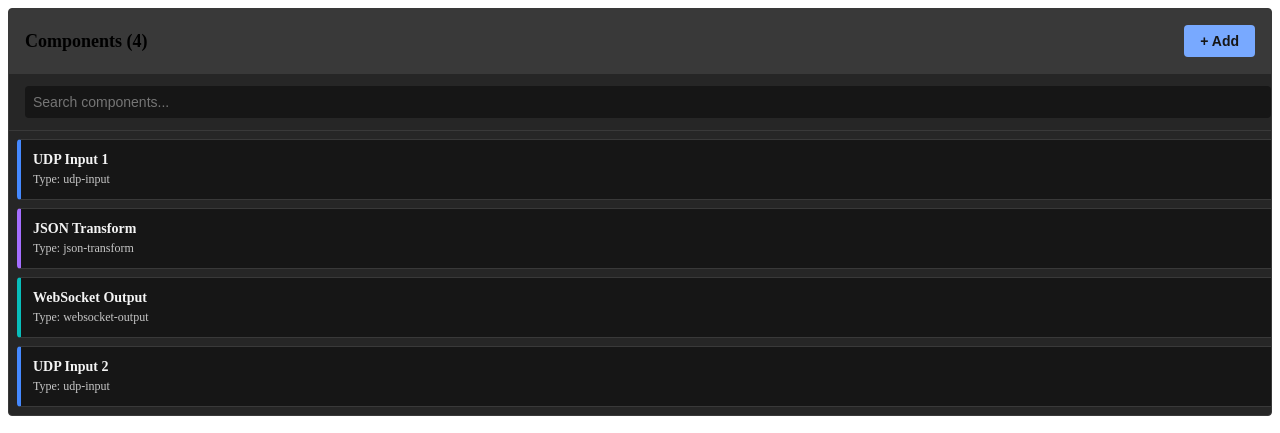
Test: ComponentList › search and filter › should filter nodes by type
In the field with placeholder "Search components...": (648, 102) 25,86 -> 1271,118, type "json"
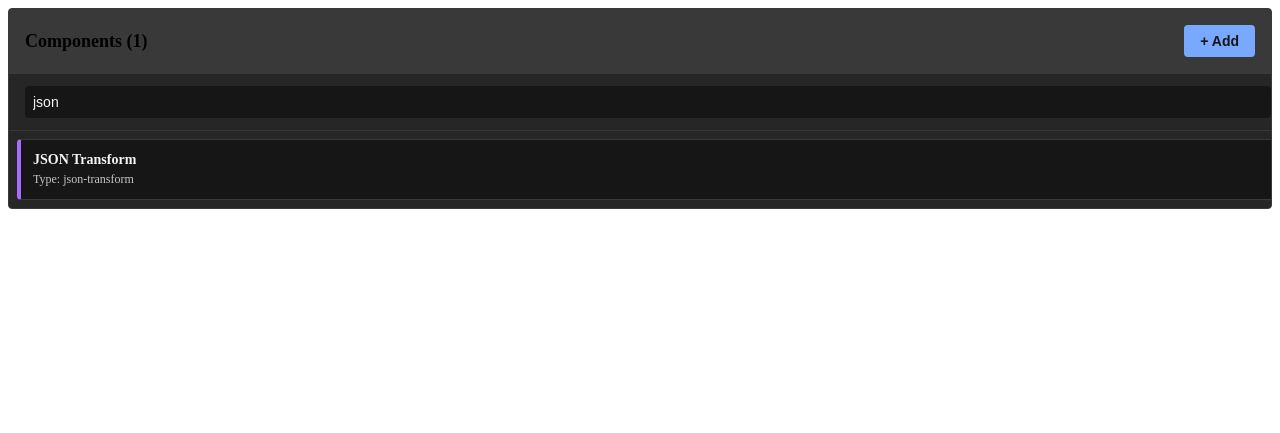
Expected: the heading "JSON Transform" is shown, 33,152 -> 136,168
Now the button "UDP Input 1" is gone
Now the button "WebSocket Output" is gone
